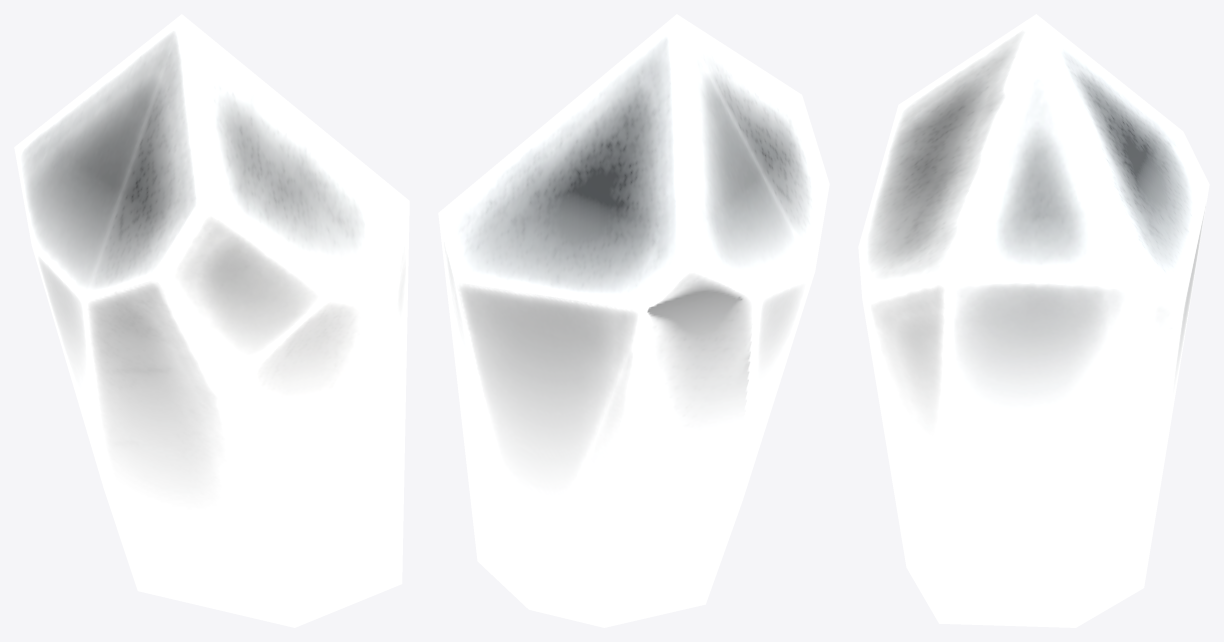
Rendered from crystal_piece_002.fbx.
3 views of the same model, side by side, from view 1: azimuth 30°, elevation 25°; view 2: azimuth 150°, elevation 25°; view 3: azimuth 270°, elevation 25° (orthographic). The views are drawn at different scales.
Visible parts, largest first — view 1: crystal_piece_002; view 2: crystal_piece_002; view 3: crystal_piece_002.
Part boxes in pixels (bbox=[...]): crystal_piece_002: bbox=[14, 14, 409, 627]; crystal_piece_002: bbox=[438, 14, 829, 627]; crystal_piece_002: bbox=[858, 14, 1209, 627].
Bounding box in the file's own units: 0.6287 × 1.16 × 0.6902.
